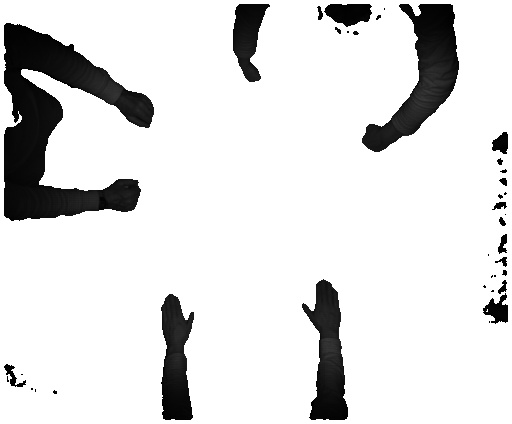fist: (119, 91, 159, 127), (108, 176, 143, 215), (360, 124, 392, 151), (239, 63, 263, 87)
hand: (296, 272, 343, 336), (160, 288, 199, 351)
